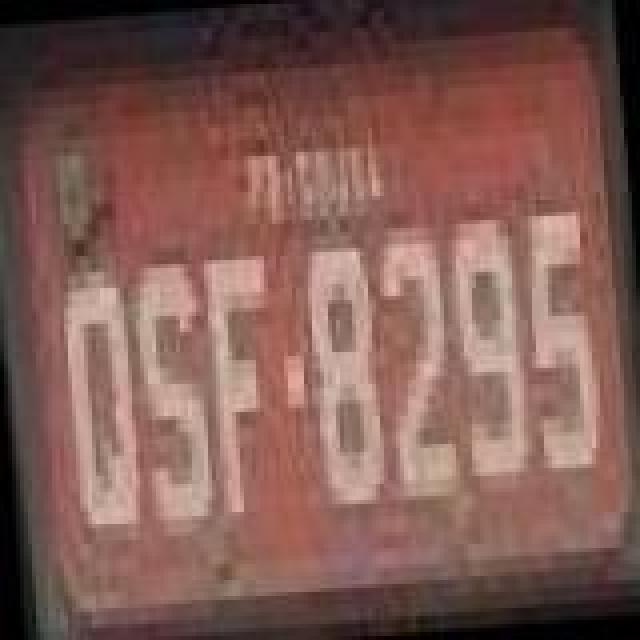2: (374, 222, 466, 506)
5: (518, 202, 610, 486)
8: (298, 240, 390, 512)
9: (444, 216, 532, 488)
F: (202, 244, 294, 524)
Q: (58, 272, 150, 536)
S: (130, 252, 222, 532)
